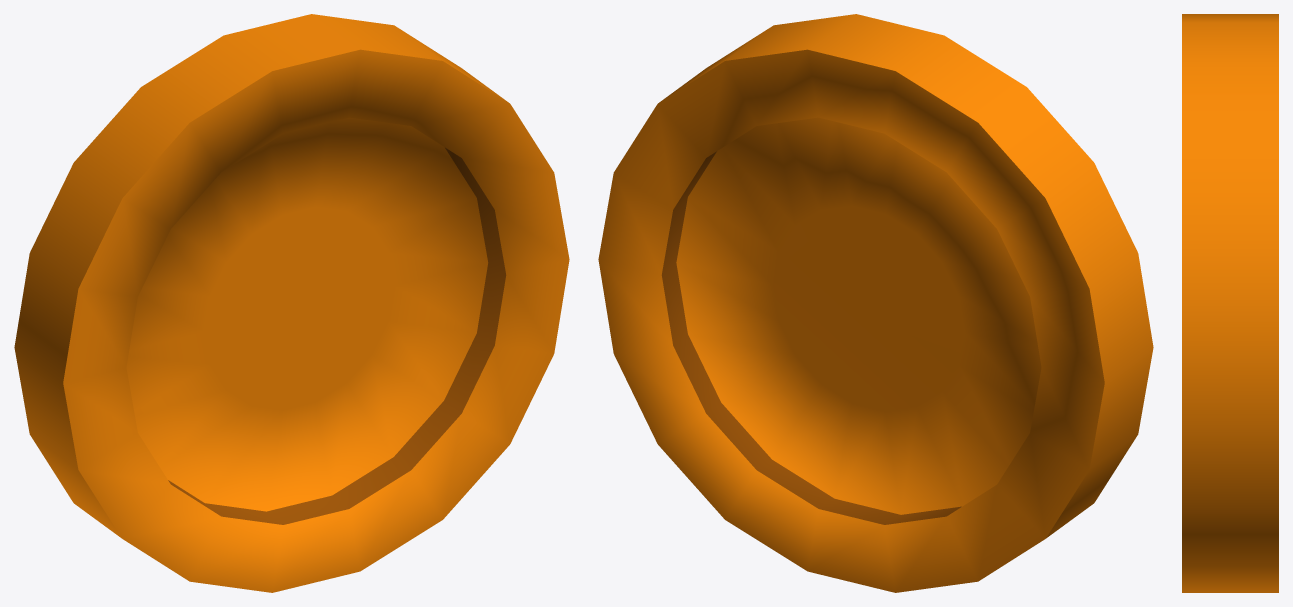
The model's file is Coin.FBX.
The picture shows the model from 3 angles, left to right: view 1: azimuth 30°, elevation 25°; view 2: azimuth 150°, elevation 25°; view 3: azimuth 270°, elevation 25°; orthographic projection.
Parts seen in each view (by area): view 1: Cylinder001; view 2: Cylinder001; view 3: Cylinder001.
Part boxes in pixels (<box>): Cylinder001: <box>14,14,569,592</box>; Cylinder001: <box>598,14,1153,592</box>; Cylinder001: <box>1182,14,1278,592</box>.
Bounding box in the file's own units: 60 × 59.09 × 10.
